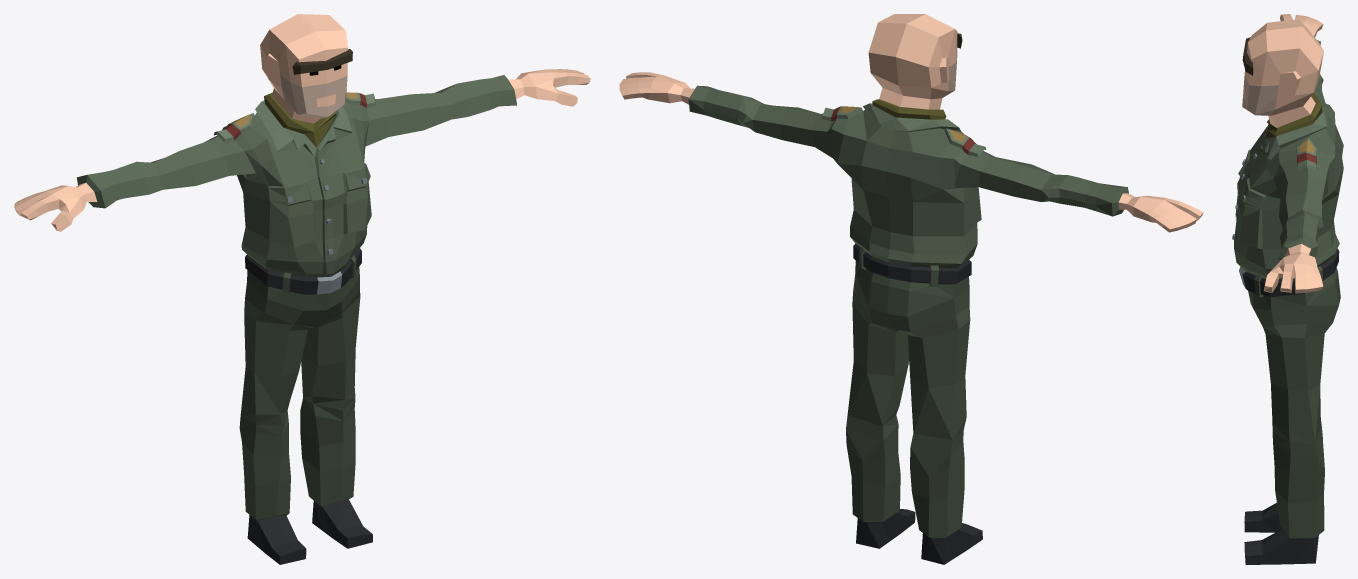
Rendered from SM_Chr_Leader_Male_01.fbx.
3 renders of one model, left to right at view 1: azimuth 30°, elevation 25°; view 2: azimuth 150°, elevation 25°; view 3: azimuth 270°, elevation 25°, orthographic.
Visible parts, largest first — view 1: SM_Chr_Leader_Male_01; view 2: SM_Chr_Leader_Male_01; view 3: SM_Chr_Leader_Male_01.
Part boxes in pixels (x1,y1,x2,y2): SM_Chr_Leader_Male_01: (14, 14, 590, 564); SM_Chr_Leader_Male_01: (619, 14, 1203, 564); SM_Chr_Leader_Male_01: (1232, 14, 1343, 564).
Size of the model in its own units: 205 by 179 by 35.11.
